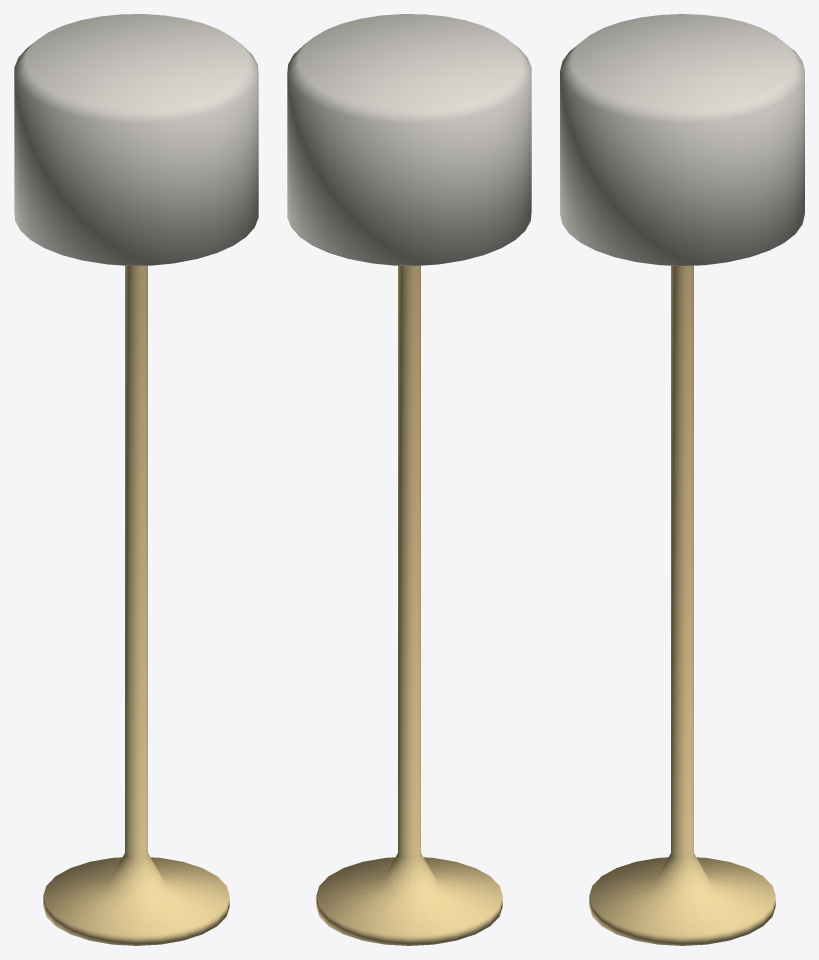
Rendered from floor_lamp.glb.
The picture shows the model from 3 angles, left to right: view 1: azimuth 30°, elevation 25°; view 2: azimuth 150°, elevation 25°; view 3: azimuth 270°, elevation 25°; orthographic projection.
Parts seen in each view (by area): view 1: shade, base; view 2: shade, base; view 3: shade, base.
Part boxes in pixels (x1,y1,x2,y2): shade: (14, 14, 258, 265); base: (43, 265, 229, 945); shade: (287, 14, 531, 265); base: (316, 265, 502, 945); shade: (560, 14, 804, 266); base: (589, 265, 775, 945).
Bounding box in the file's own units: 0.42 × 1.6 × 0.42.
